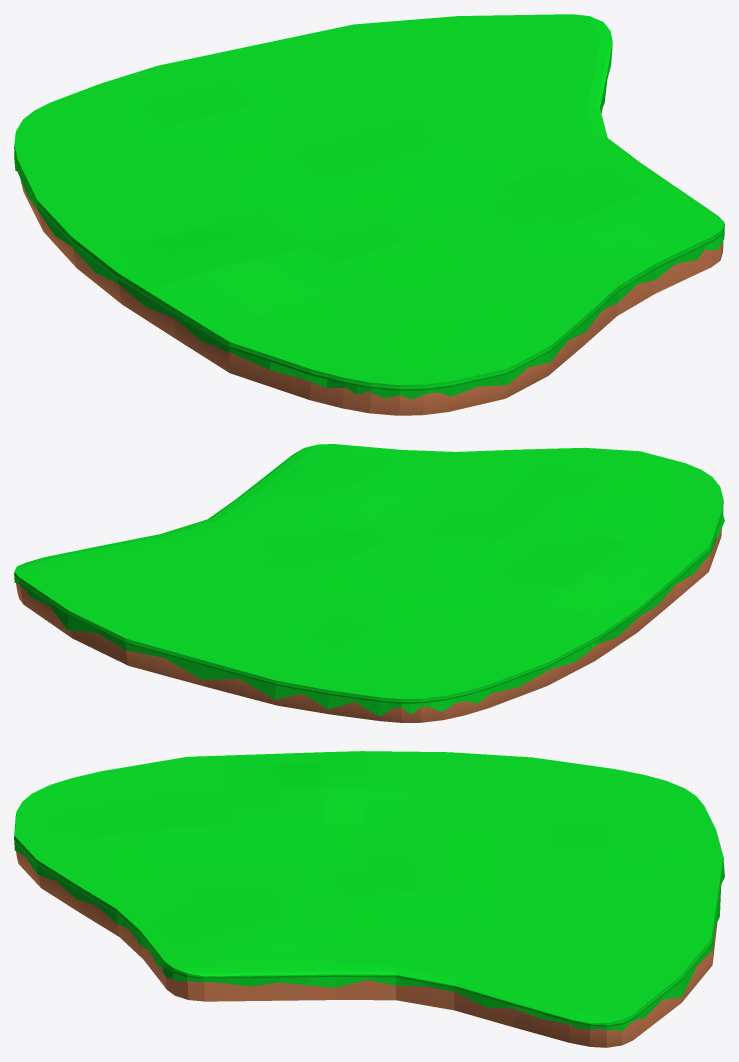
The model's file is Platform03.fbx.
3 renders of one model, top to bottom at view 1: azimuth 30°, elevation 25°; view 2: azimuth 150°, elevation 25°; view 3: azimuth 270°, elevation 25°, orthographic. The views are drawn at different scales.
Visible parts, largest first — view 1: Cube.008; view 2: Cube.008; view 3: Cube.008.
Part boxes in pixels (x1,y1,x2,y2): Cube.008: (14, 14, 724, 415); Cube.008: (14, 444, 724, 722); Cube.008: (14, 751, 724, 1047).
Size of the model in its own units: 8215 by 448 by 9106.
